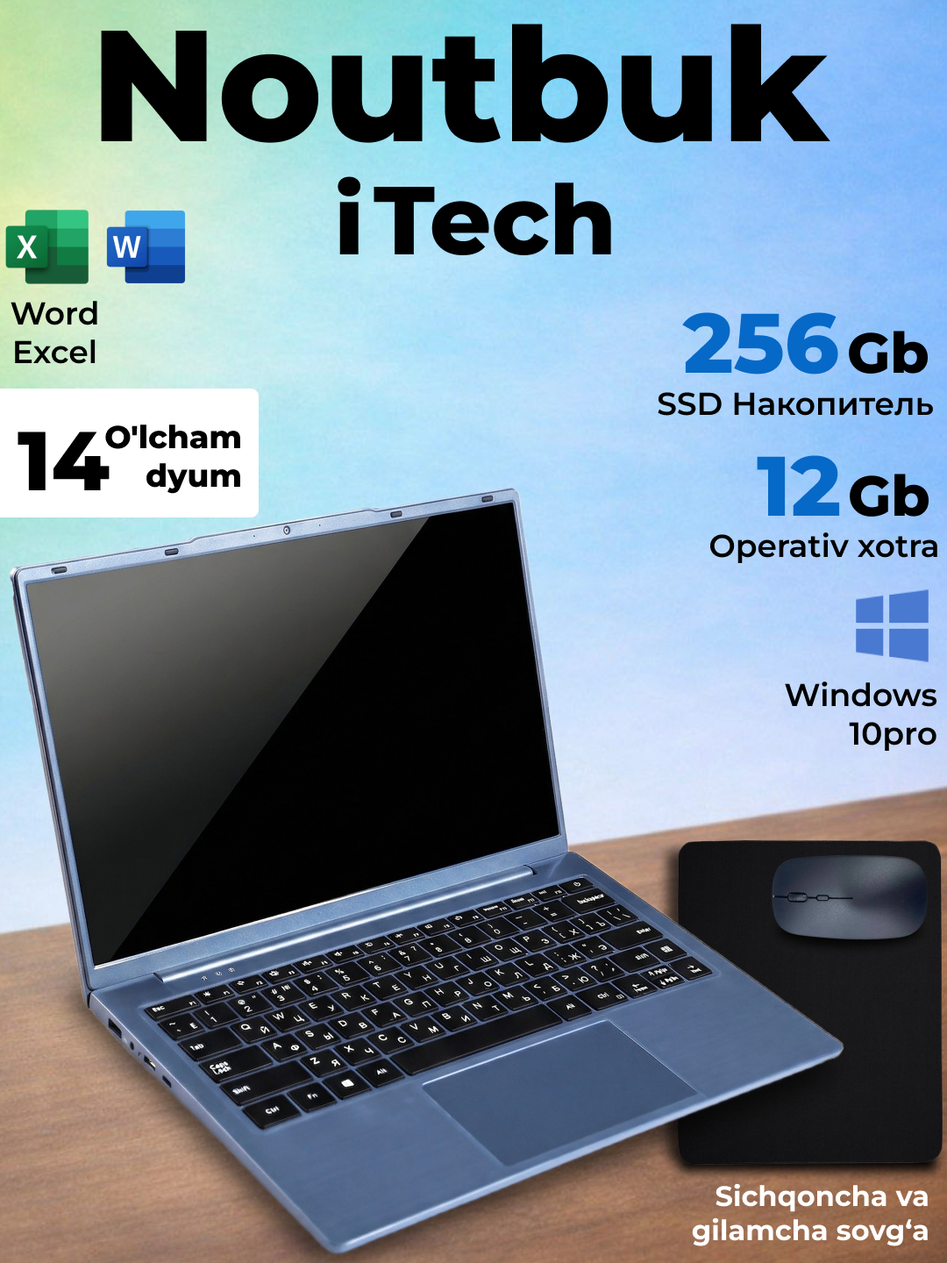laptop: (14, 482, 844, 1257)
